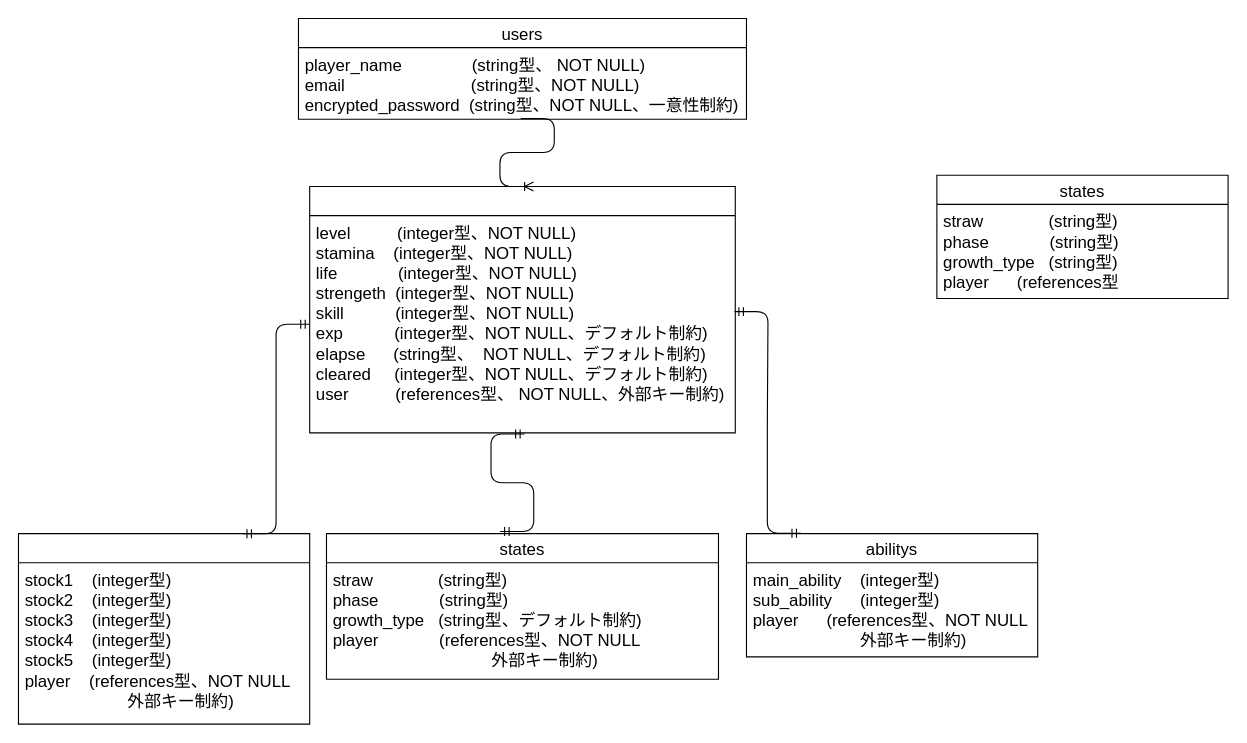
Image size: 1247x743. Some labels were removed from this diagram. The box of each missing label's shape, as (x1, y1, x2, y2) in pixels:
items: (17, 533, 310, 724)
players: (309, 185, 735, 433)
